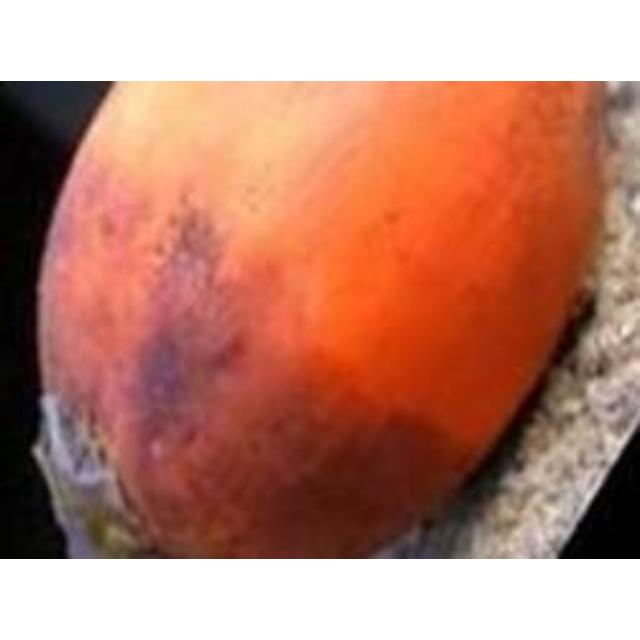good: (28, 81, 609, 557)
